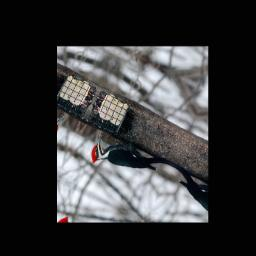Woodpecker: (86, 116, 177, 195)
